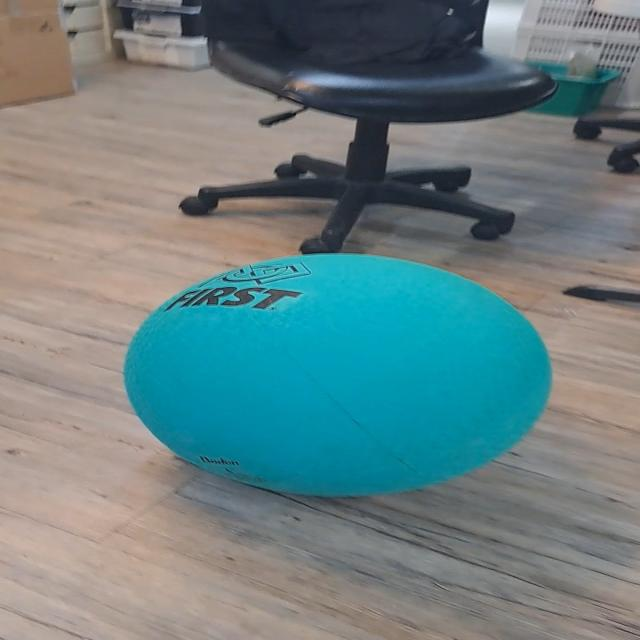ALGAE: (120, 250, 554, 498)
